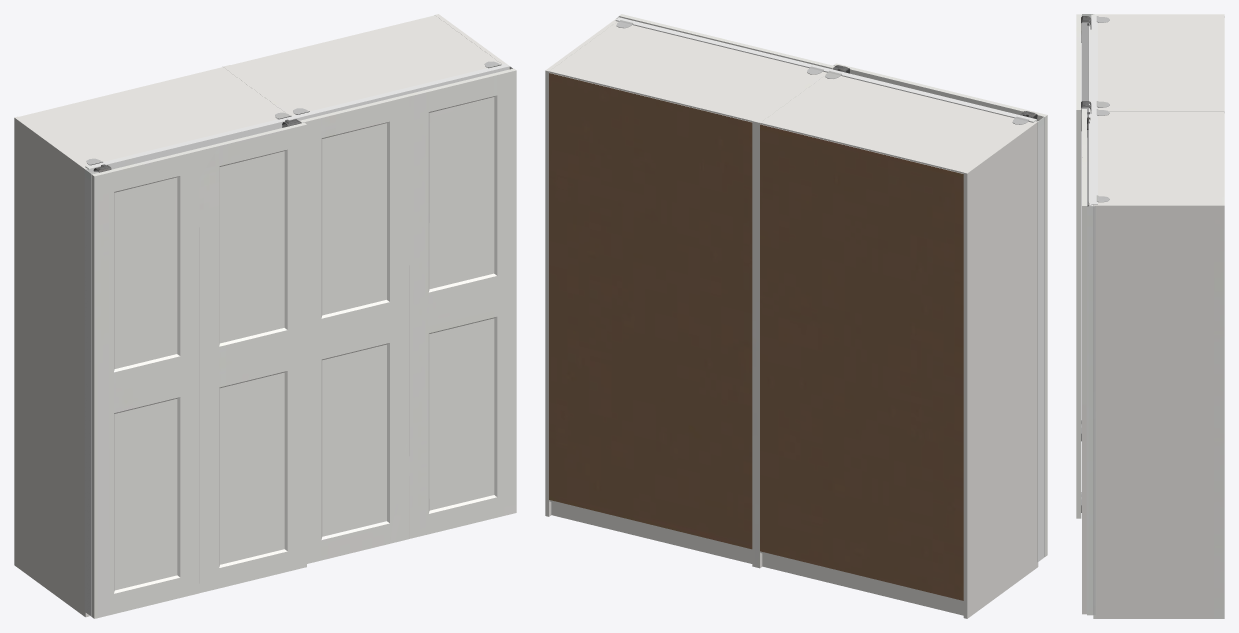
File: 15 - PAXGRIMO - 衣櫃衣櫥組合, 白色白色, 200x66x201 公分 IKEA 線上購物.glb
The picture shows the model from 3 angles, left to right: view 1: azimuth 30°, elevation 25°; view 2: azimuth 150°, elevation 25°; view 3: azimuth 270°, elevation 25°; orthographic projection. The views are drawn at different scales.
Visible parts, largest first — view 1: Mesh_0.001; view 2: Mesh_0.001; view 3: Mesh_0.001.
Part boxes in pixels (box(x1,y1,x2,y2)): Mesh_0.001: box(14, 14, 516, 618); Mesh_0.001: box(545, 14, 1047, 618); Mesh_0.001: box(1076, 14, 1224, 618).
Size of the model in its own units: 2 by 2.02 by 0.6556.
1 material, 1 textured.
